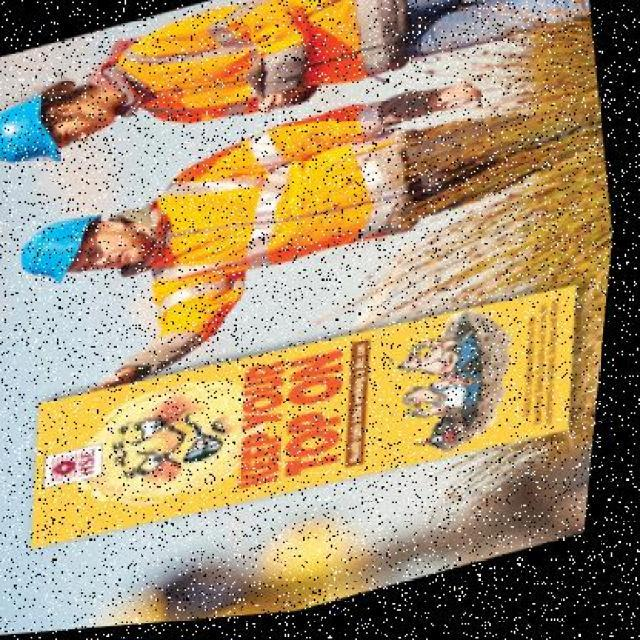helmet: (15, 197, 125, 299), (0, 80, 80, 187)
vest: (113, 98, 481, 308), (108, 0, 441, 146)
